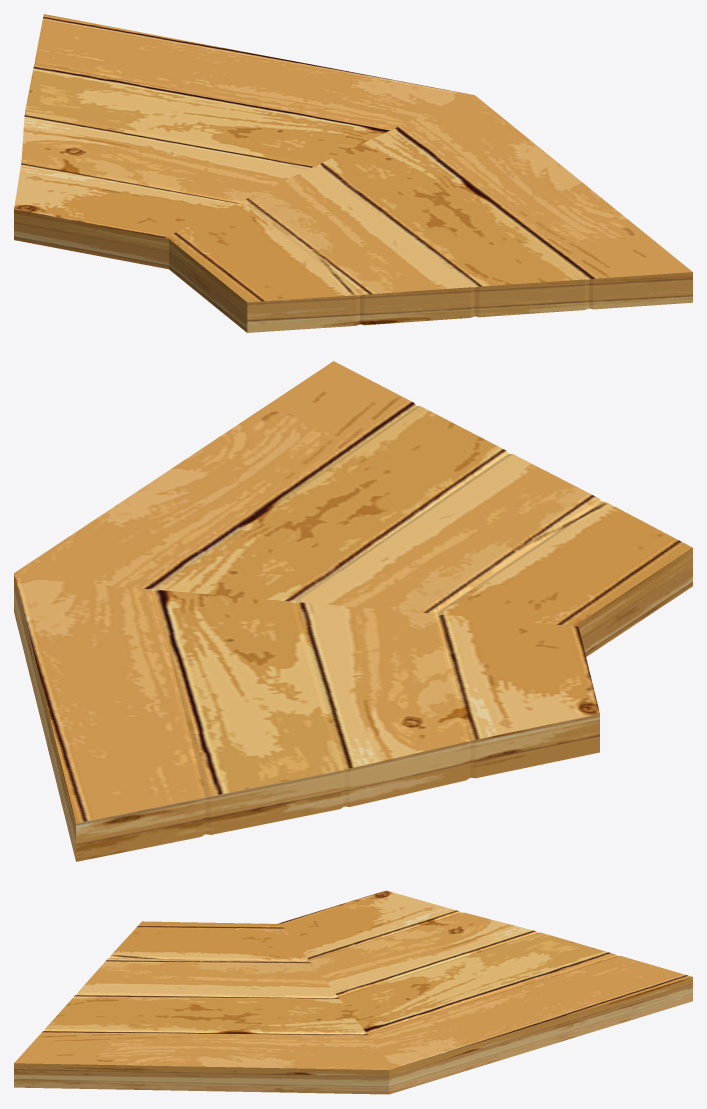
The model's file is SM_TreePlatforms_Box003.FBX.
3 renders of one model, top to bottom at view 1: azimuth 30°, elevation 25°; view 2: azimuth 150°, elevation 25°; view 3: azimuth 270°, elevation 25°, orthographic. The views are drawn at different scales.
Visible parts, largest first — view 1: Box003; view 2: Box003; view 3: Box003.
Part boxes in pixels (bbox=[...]): Box003: bbox=[14, 14, 692, 332]; Box003: bbox=[14, 361, 692, 861]; Box003: bbox=[14, 890, 692, 1094].
Size of the model in its own units: 0.0966 by 0.0061 by 0.1542.
1 material, 1 textured.
